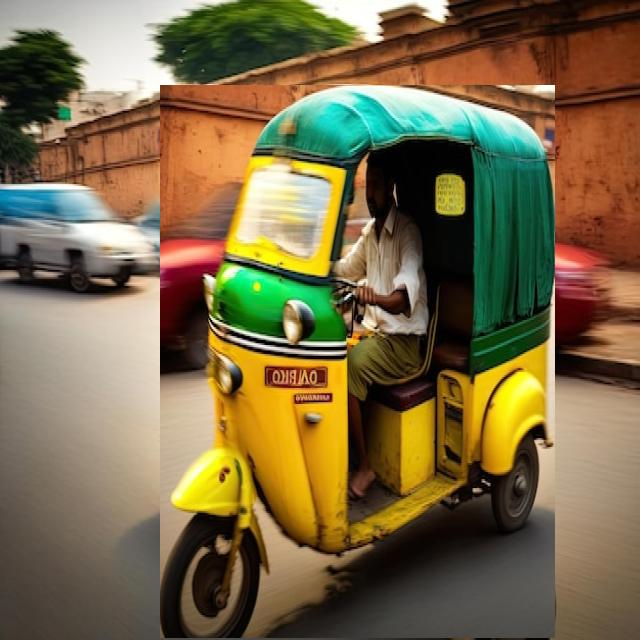autorickshaw: (160, 85, 555, 638)
